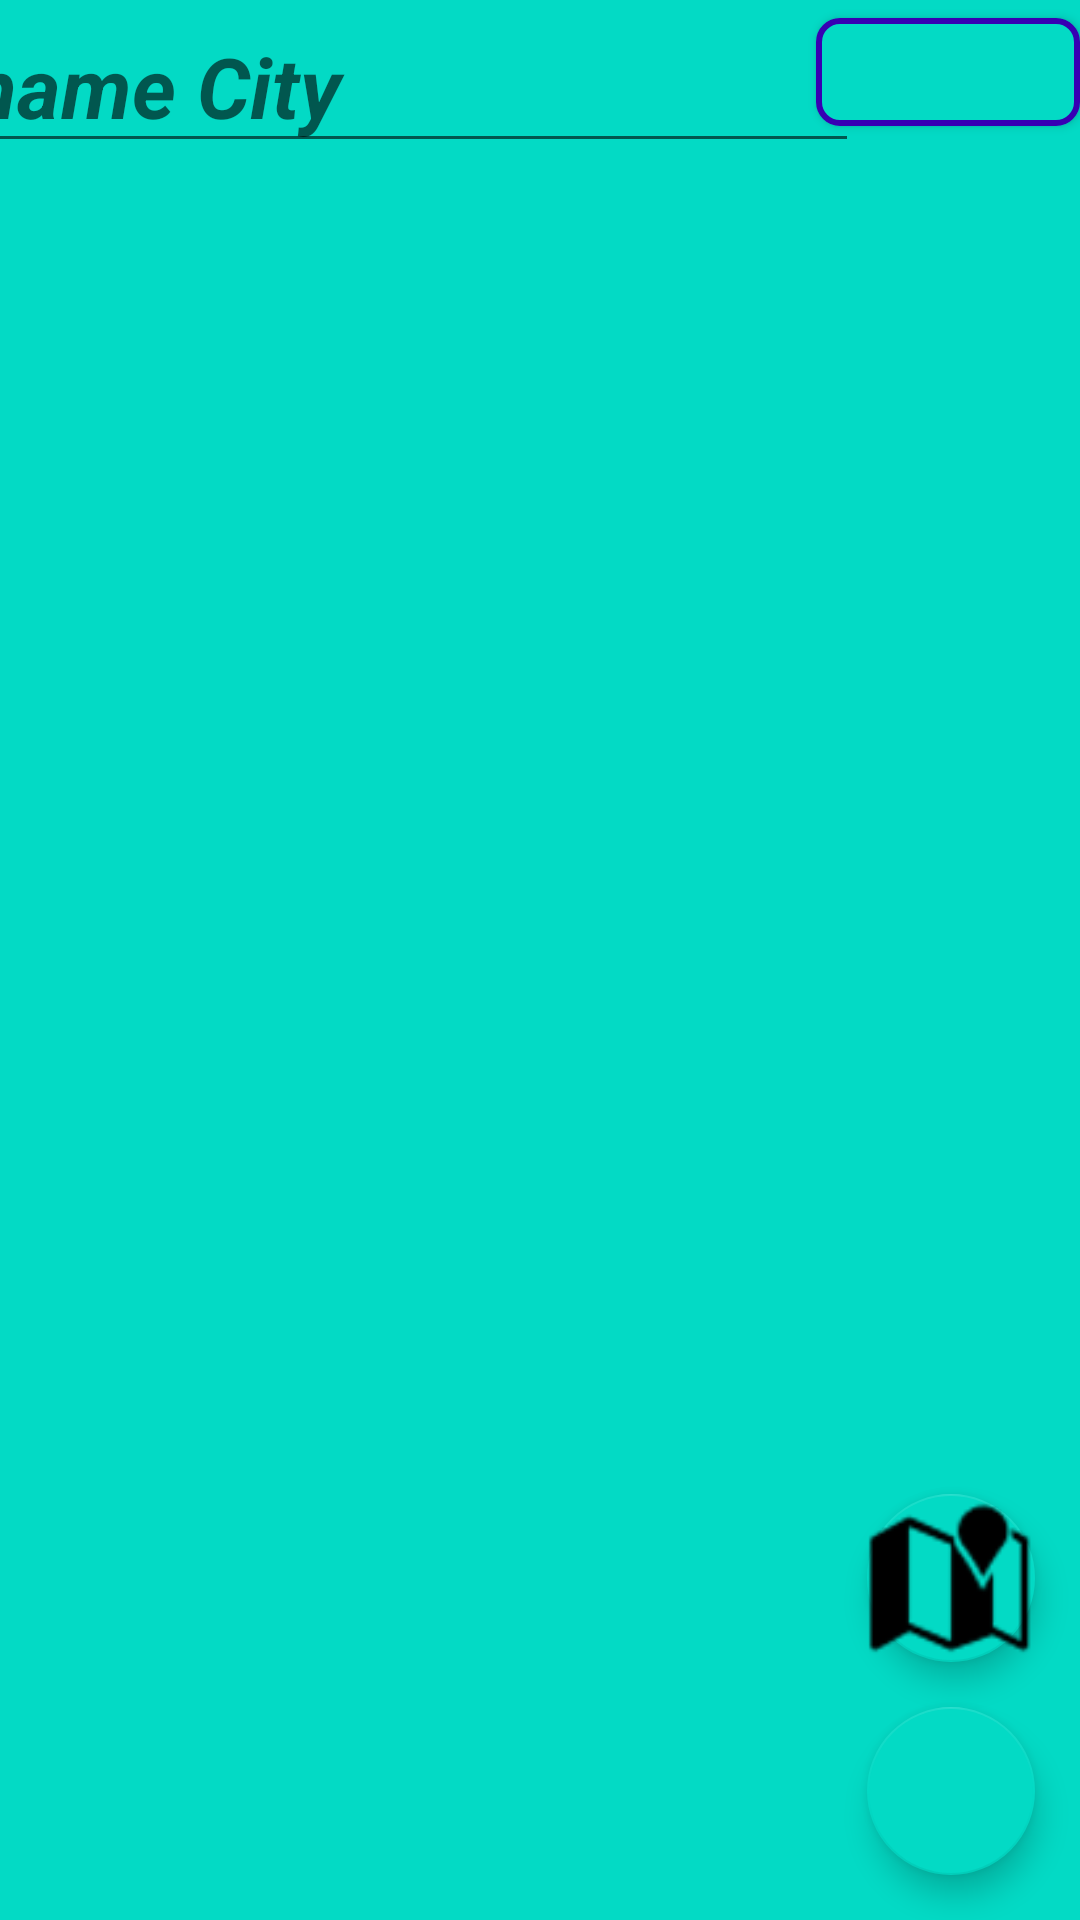

Screen size 1080 x 1920. Icon name, then its center in pixels as (x,y):
map: (951,1578)
